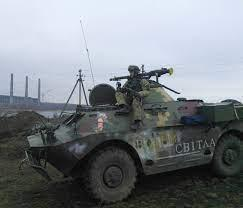tank: (24, 67, 240, 198)
